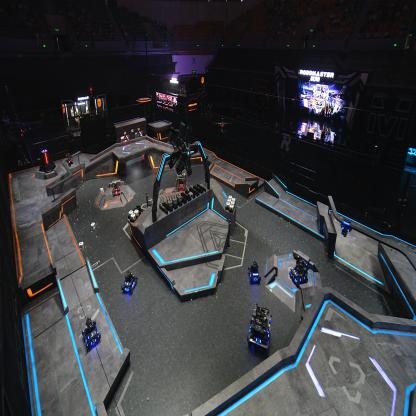car: (247, 302, 272, 352), (289, 252, 309, 287), (82, 316, 100, 352), (121, 270, 138, 294), (174, 167, 188, 193), (247, 260, 261, 286), (110, 180, 121, 197)
